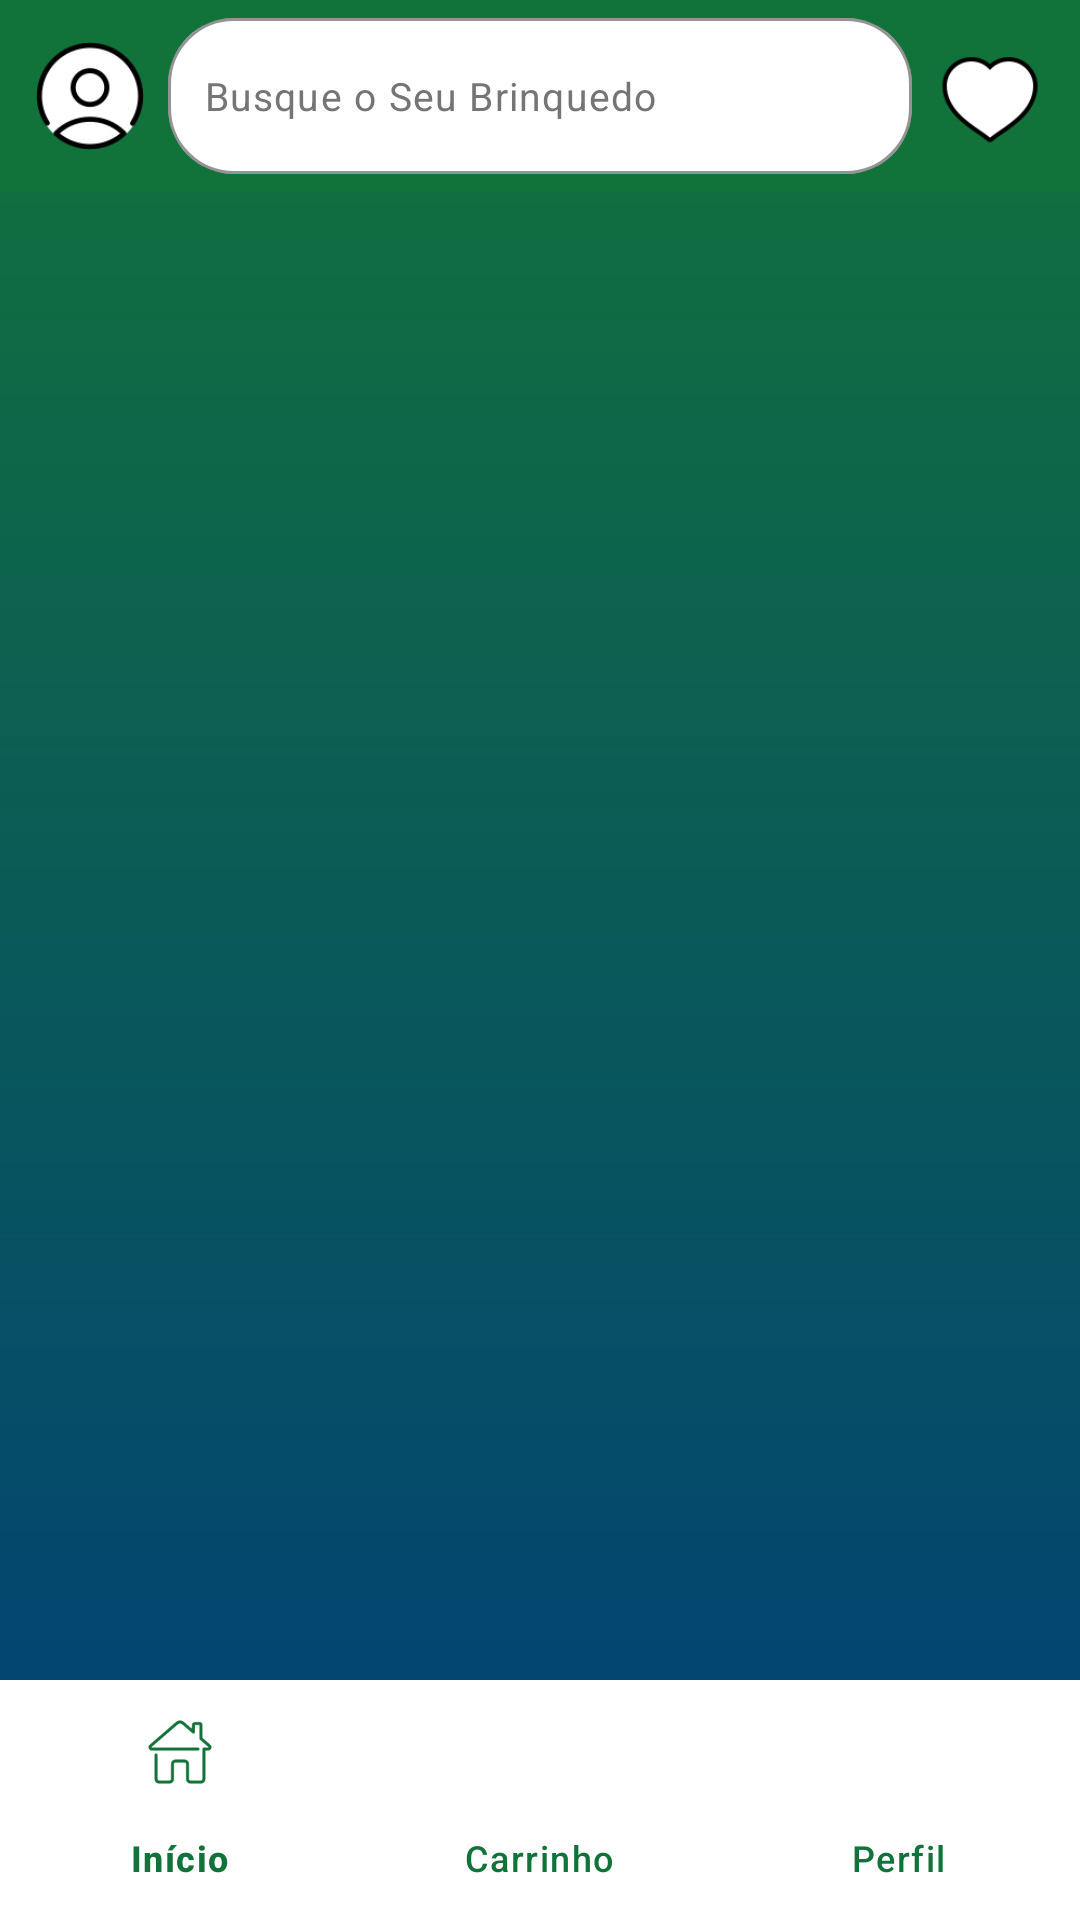

Where to tap for icons on this 1080*1920 app screen, as [x,y]:
favoritos: [990,100]
perfil: [90,96]
